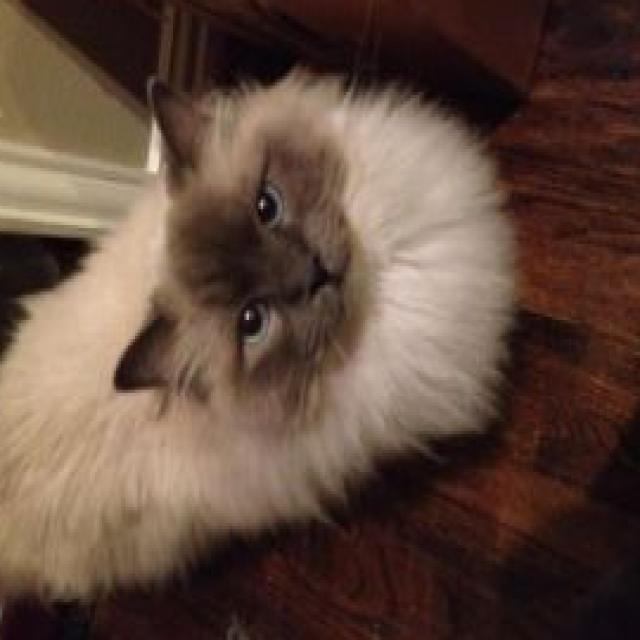Ragdoll: (0, 47, 521, 611)
